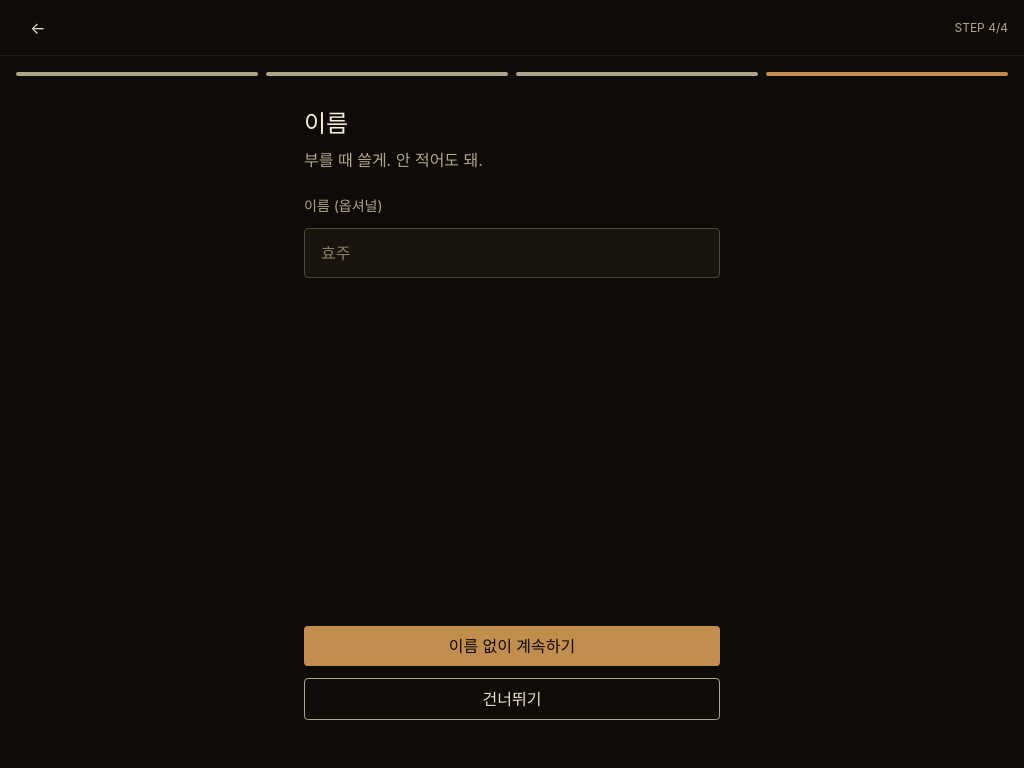
Test case: /onboarding/name — Screen 5 (ISSUE-028) › AC4: name > 10 chars renders inline error "이름은 10자 이내로 적어줘"
Type "가나다라마바사아자차카" into the field labelled "이름 (옵셔널)".
click(512, 253); type("가나다라마바사아자차카")  # box 304,228 -> 720,278
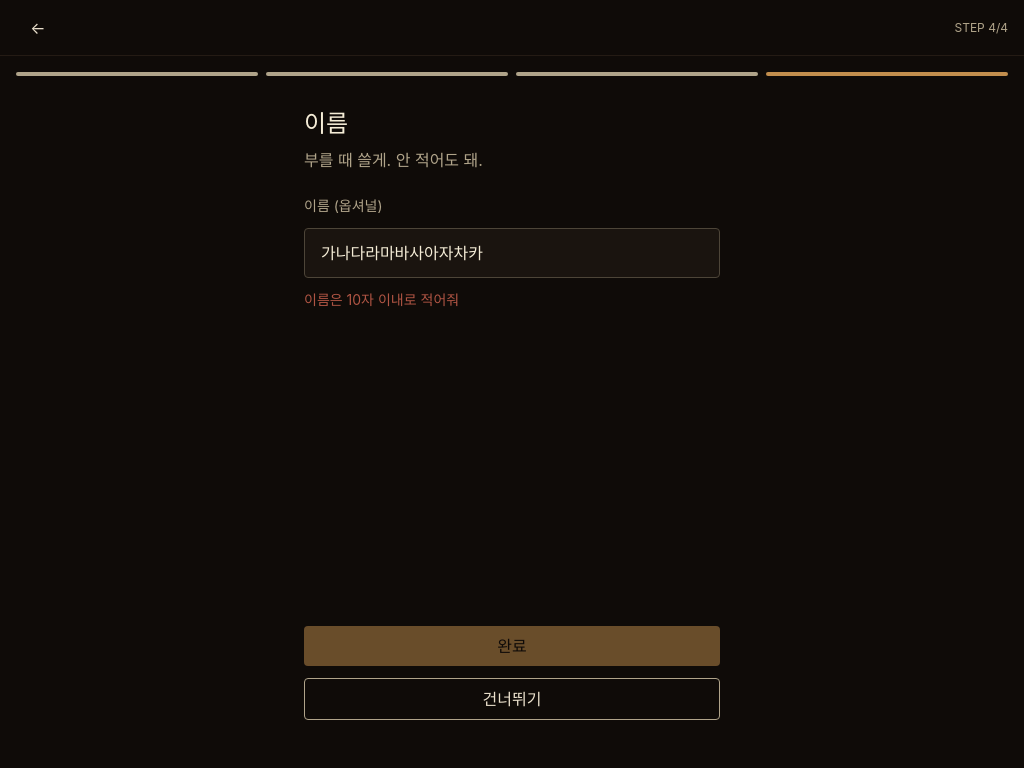
Result: the text "이름은 10자 이내로 적어줘" is shown at 304,291 -> 459,308
Result: the button "완료" is disabled at 304,626 -> 720,666
